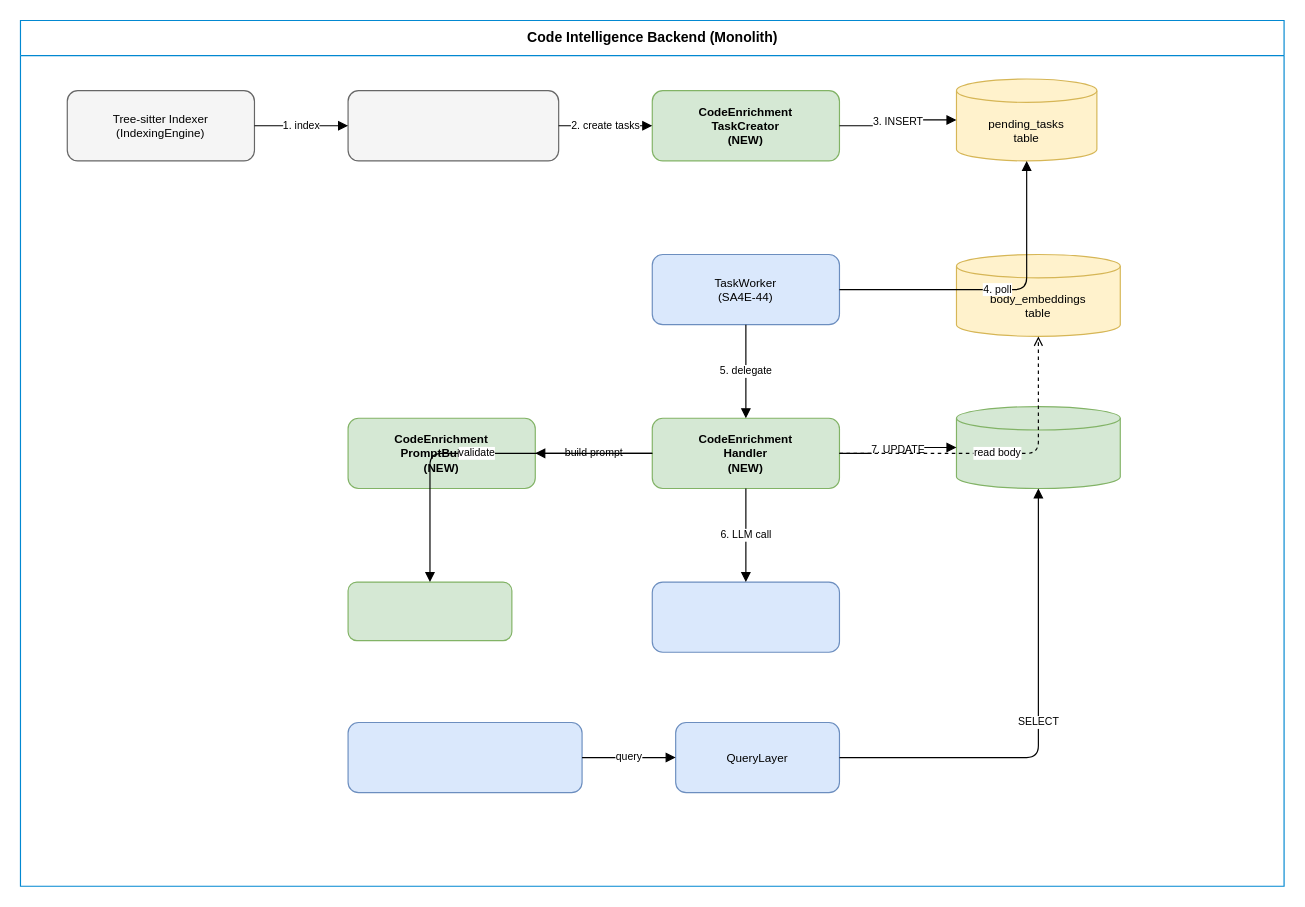
Some shapes in this 1305 by 907 pixel diagram are drawn without their labels. Here are the shapes that lost their labels. From the top down, the centre of each, then its label:
[453,125]: storage.ts storeResults() extractAndStoreBodies()
[1037,446]: symbols table (+enrichment cols)
[429,611]: tag-validator (NEW)
[745,616]: LLMService (Ollama/OpenAI)
[464,757]: MCP Tools (code_search, code_symbols, code_search_by_tag)
